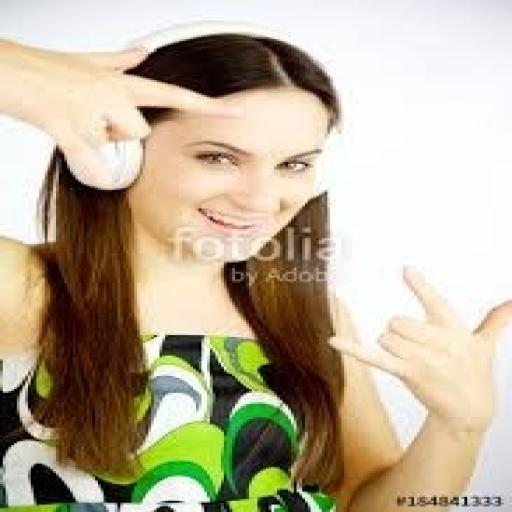listening_to_music: (0, 26, 509, 510)
